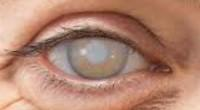eye: (66, 36, 129, 80)
